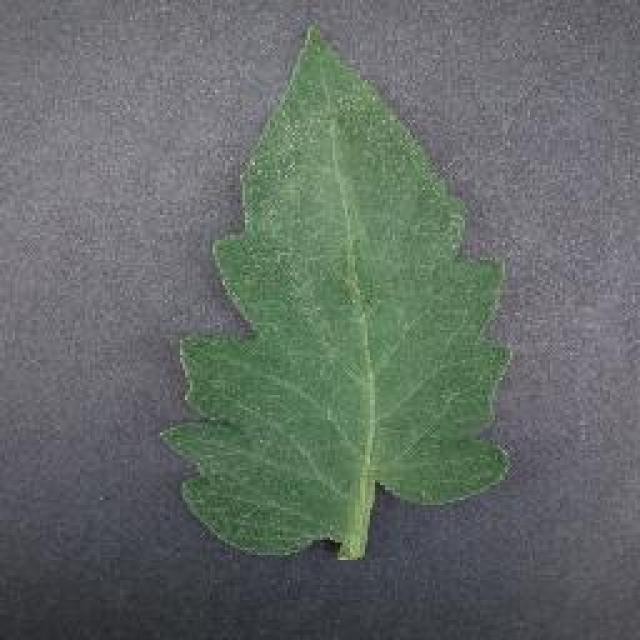Tomato___healthy: (147, 27, 516, 562)
